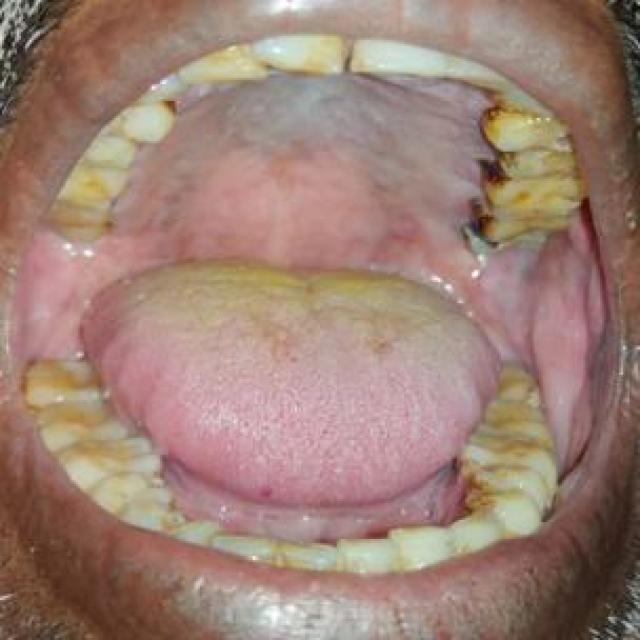leukoplakia-detection: (117, 77, 486, 247), (359, 227, 588, 369), (29, 243, 124, 363)
processing_area: (23, 75, 610, 542)
